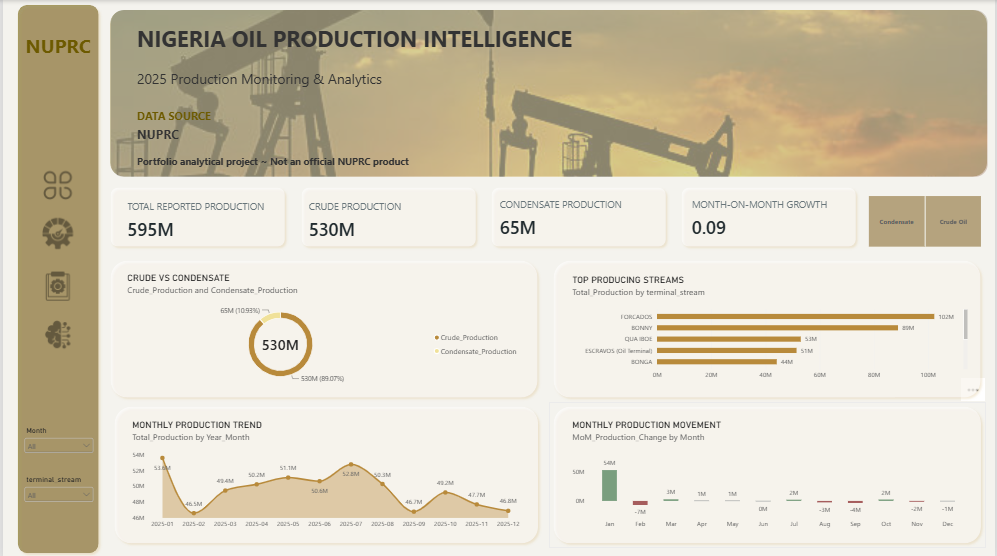

The page's visual inventory and layout, read from the dashboard file:
{"tool":"powerbi","page":{"name":"Executive Overview","canvas":[1920,1080],"ordinal":0},"visuals":[{"type":"shape","box":[20,0,175,1080],"z":0},{"type":"shape","box":[1305.4,355,355,131.8],"z":1000},{"type":"shape","box":[937.6,355,355,131.8],"z":2000},{"type":"shape","box":[569.8,355,355,131.8],"z":3000},{"type":"shape","box":[199.8,355,355,131.8],"z":4000},{"type":"shape","box":[207.5,20,1697.5,322.5],"z":5000},{"type":"image","box":[208.3,19.1,1696.5,323.1],"z":6000},{"type":"cardVisual","title":"TOTAL REPORTED PRODUCTION","fields":{"Data":["FactProduction.Total_Production"]},"box":[208.3,376.3,346.5,102],"z":7000},{"type":"cardVisual","title":"CRUDE PRODUCTION","fields":{"Data":["FactProduction.Crude_Production"]},"box":[571.9,376.3,352.9,102],"z":8000},{"type":"cardVisual","title":"CONDENSATE PRODUCTION","fields":{"Data":["FactProduction.Condensate_Production"]},"box":[939.7,367.8,352.9,110.6],"z":9000},{"type":"cardVisual","title":"MONTH-ON-MONTH GROWTH","fields":{"Data":["FactProduction.MoM_Growth %"]},"box":[1311.7,367.8,344.4,110.6],"z":10000},{"type":"slicer","fields":{"Values":["DimDate.Month"]},"box":[36.9,824.1,143.1,78.1],"z":11000},{"type":"slicer","fields":{"Values":["FactProduction.liquid_type"]},"box":[1655.2,376.9,257.2,102],"z":12000},{"type":"slicer","fields":{"Values":["FactProduction.terminal_stream"]},"box":[36.9,919.5,143.1,80.2],"z":13000},{"type":"textbox","box":[260,300,540,55.3],"z":14000},{"type":"textbox","box":[259.4,244.5,108.4,55.3],"z":15000},{"type":"textbox","box":[259.4,208.3,157.3,36.1],"z":16000},{"type":"textbox","box":[259.4,133.9,496.4,58],"z":17000},{"type":"textbox","box":[259.4,44.6,892,88.2],"z":18000},{"type":"shape","box":[1057.5,777.5,845,282.5],"z":19000},{"type":"shape","box":[200,495,844,282.8],"z":20000},{"type":"shape","box":[1057.5,495,844,282.8],"z":21000},{"type":"shape","box":[207.5,777.5,837.5,282.5],"z":22000},{"type":"donutChart","title":"CRUDE VS CONDENSATE","fields":{"Y":["FactProduction.Crude_Production","FactProduction.Condensate_Production"]},"box":[225,512.5,795.1,248.7],"z":23000},{"type":"clusteredBarChart","title":"TOP PRODUCING STREAMS","fields":{"Category":["FactProduction.terminal_stream"],"Y":["FactProduction.Total_Production"]},"box":[1085,517.5,797.2,238.1],"z":24000},{"type":"lineChart","title":"MONTHLY PRODUCTION TREND","fields":{"Category":["DimDate.Year_Month"],"Y":["FactProduction.Total_Production"]},"box":[235,797.5,785,245],"z":25000},{"type":"clusteredColumnChart","title":"MONTHLY PRODUCTION MOVEMENT","fields":{"Category":["DimDate.Month"],"Y":["FactProduction.MoM_Production_Change"]},"box":[1085,797.5,797.5,245],"z":26000},{"type":"image","box":[75.9,327.5,60.7,62.9],"z":27000},{"type":"image","box":[75.9,407.7,60.7,86.7],"z":28000},{"type":"image","box":[75.9,516.1,60.7,73.7],"z":29000},{"type":"image","box":[75.9,607.2,60.7,80.2],"z":30000},{"type":"textbox","box":[38,62.9,136.6,71.6],"z":31000}]}

Visuals, with their boxes on the page's 1920x1080 design canvas (x1, y1, x2, y2). These are canvas units, not pixel positions in the 997x556 screenshot, which may show the page scaled, cropped or inside an application window:
shape: [20, 0, 195, 1080]
shape: [1305, 355, 1660, 487]
shape: [938, 355, 1293, 487]
shape: [570, 355, 925, 487]
shape: [200, 355, 555, 487]
shape: [208, 20, 1905, 342]
image: [208, 19, 1905, 342]
"TOTAL REPORTED PRODUCTION" cardVisual: [208, 376, 555, 478]
"CRUDE PRODUCTION" cardVisual: [572, 376, 925, 478]
"CONDENSATE PRODUCTION" cardVisual: [940, 368, 1293, 478]
"MONTH-ON-MONTH GROWTH" cardVisual: [1312, 368, 1656, 478]
slicer - DimDate.Month: [37, 824, 180, 902]
slicer - FactProduction.liquid_type: [1655, 377, 1912, 479]
slicer - FactProduction.terminal_stream: [37, 920, 180, 1000]
textbox: [260, 300, 800, 355]
textbox: [259, 244, 368, 300]
textbox: [259, 208, 417, 244]
textbox: [259, 134, 756, 192]
textbox: [259, 45, 1151, 133]
shape: [1058, 778, 1902, 1060]
shape: [200, 495, 1044, 778]
shape: [1058, 495, 1902, 778]
shape: [208, 778, 1045, 1060]
"CRUDE VS CONDENSATE" donutChart: [225, 512, 1020, 761]
"TOP PRODUCING STREAMS" clusteredBarChart: [1085, 518, 1882, 756]
"MONTHLY PRODUCTION TREND" lineChart: [235, 798, 1020, 1042]
"MONTHLY PRODUCTION MOVEMENT" clusteredColumnChart: [1085, 798, 1882, 1042]
image: [76, 328, 137, 390]
image: [76, 408, 137, 494]
image: [76, 516, 137, 590]
image: [76, 607, 137, 687]
textbox: [38, 63, 175, 134]
